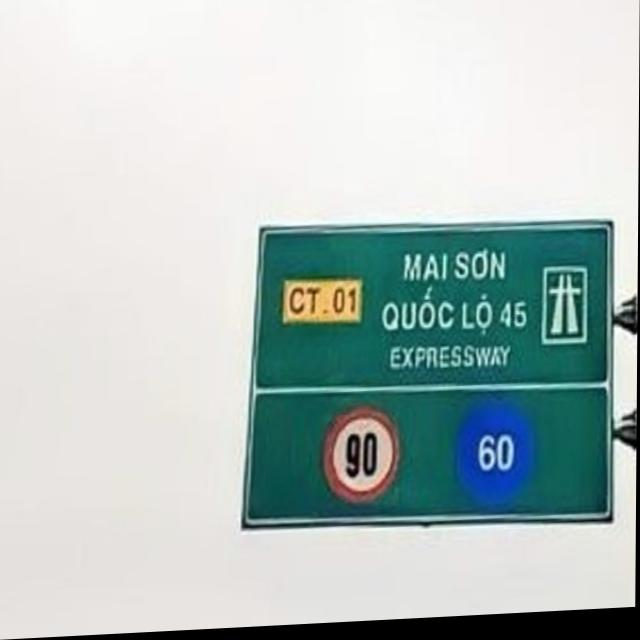Speed Limit -90-: (323, 409, 401, 508)
